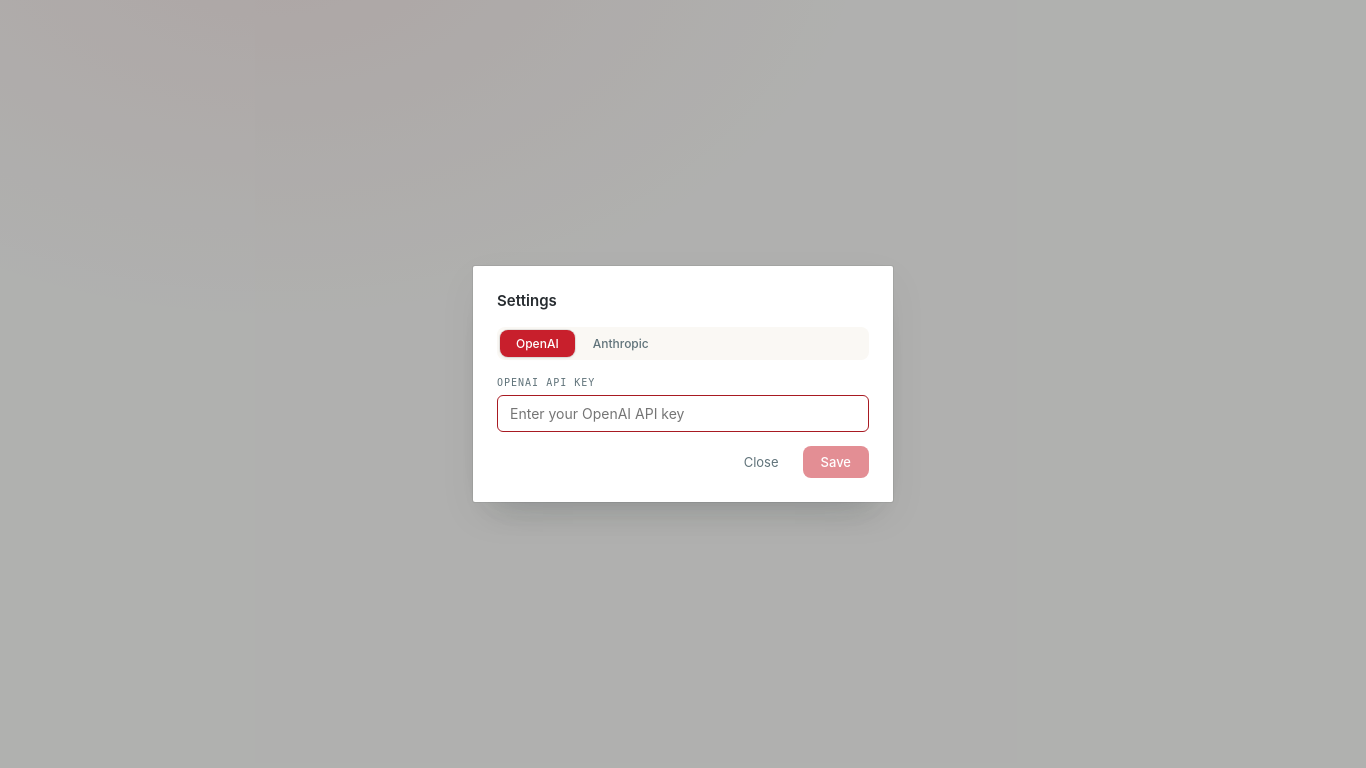
SettingsModal › does not switch the active vendor just from browsing to an unconfigured tab
The image size is (1366, 768).
Expected: the password field labelled "OpenAI API key" is shown, x1=497 y1=395 x2=869 y2=432
Click the button "Anthropic": (621, 344) x1=577 y1=330 x2=665 y2=357
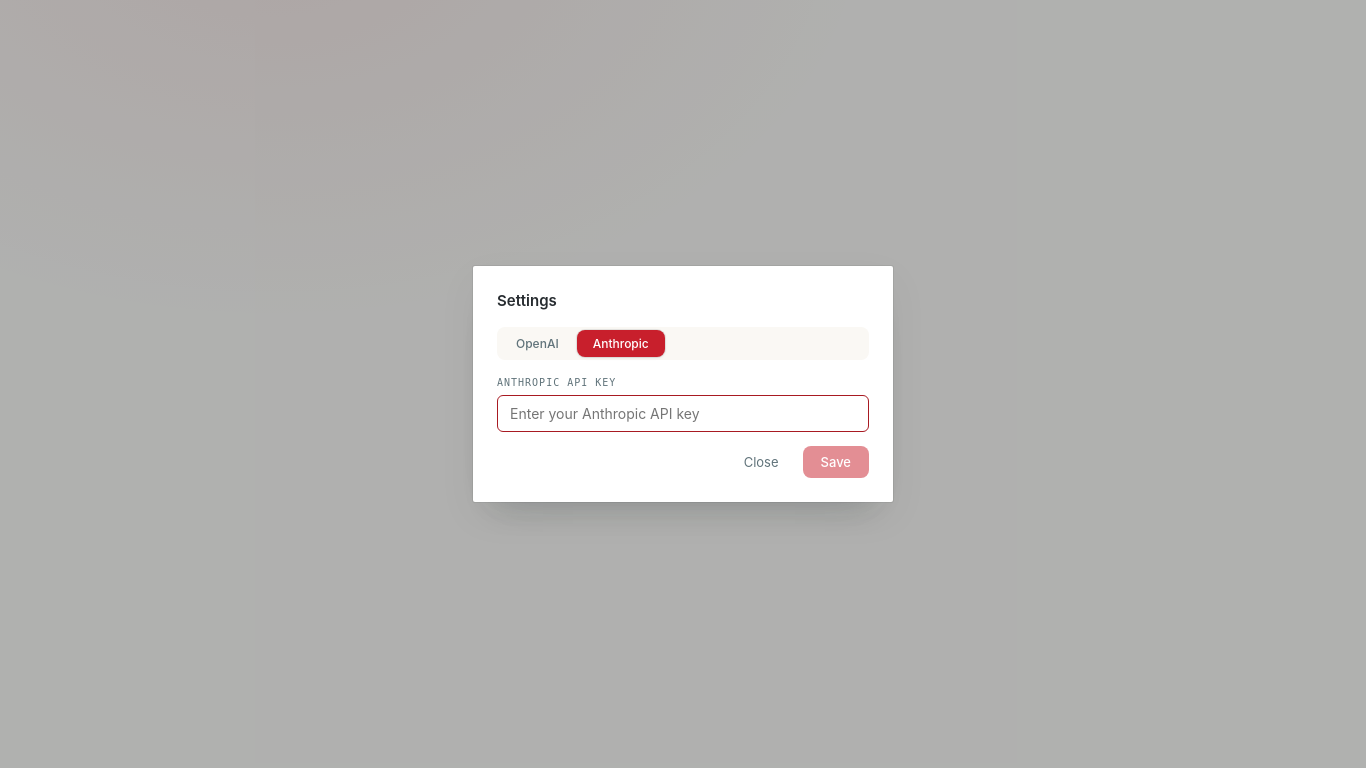
Now the password field labelled "Anthropic API key" is shown, box x1=497 y1=395 x2=869 y2=432
